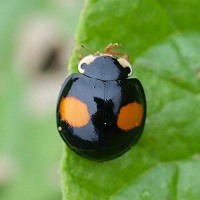Two_spots: (55, 43, 145, 160)
